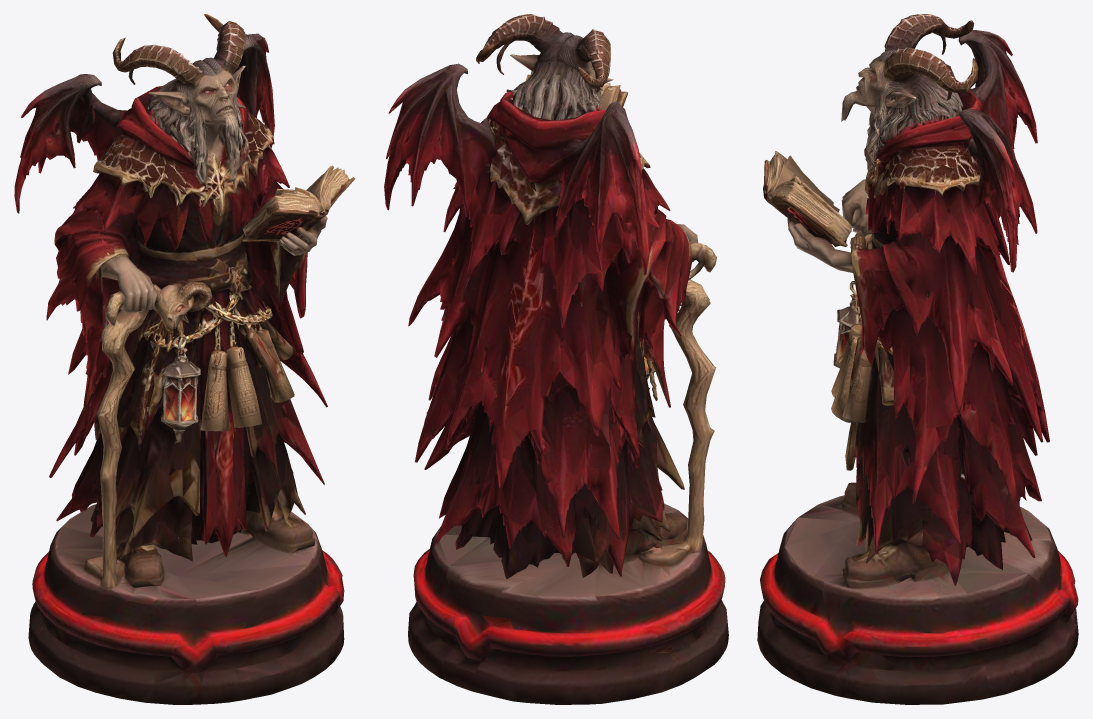
The model's file is summoner.glb.
The picture shows the model from 3 angles, left to right: view 1: azimuth 30°, elevation 25°; view 2: azimuth 150°, elevation 25°; view 3: azimuth 270°, elevation 25°; orthographic projection.
Visible parts, largest first — view 1: Mesh_0; view 2: Mesh_0; view 3: Mesh_0.
Boxes of the visible parts, x1=… form: Mesh_0: x1=14, y1=14, x2=355, y2=704; Mesh_0: x1=384, y1=14, x2=728, y2=704; Mesh_0: x1=757, y1=14, x2=1078, y2=704.
Size of the model in its own units: 0.4787 by 1 by 0.4771.
1 material, 1 textured.
